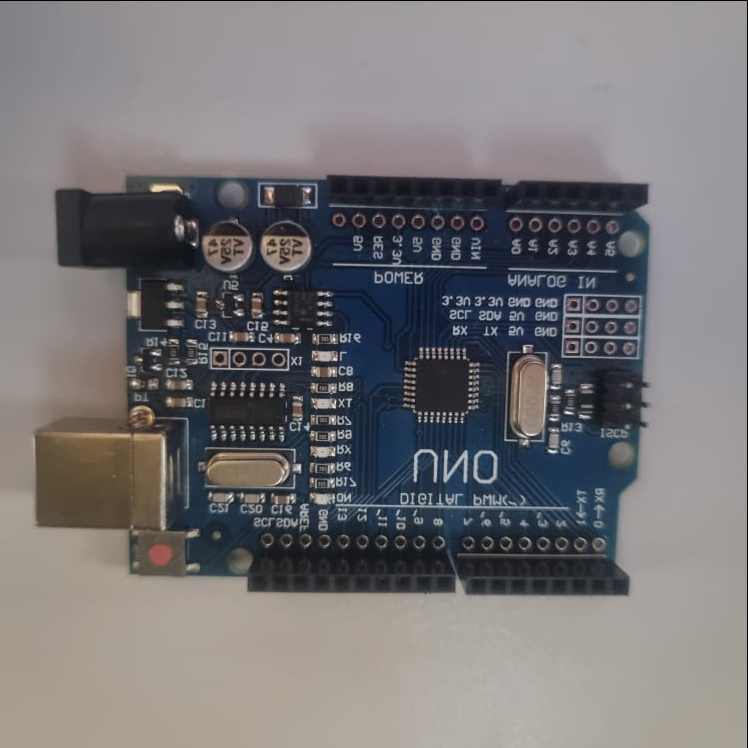UNO R3: (34, 179, 657, 592)
